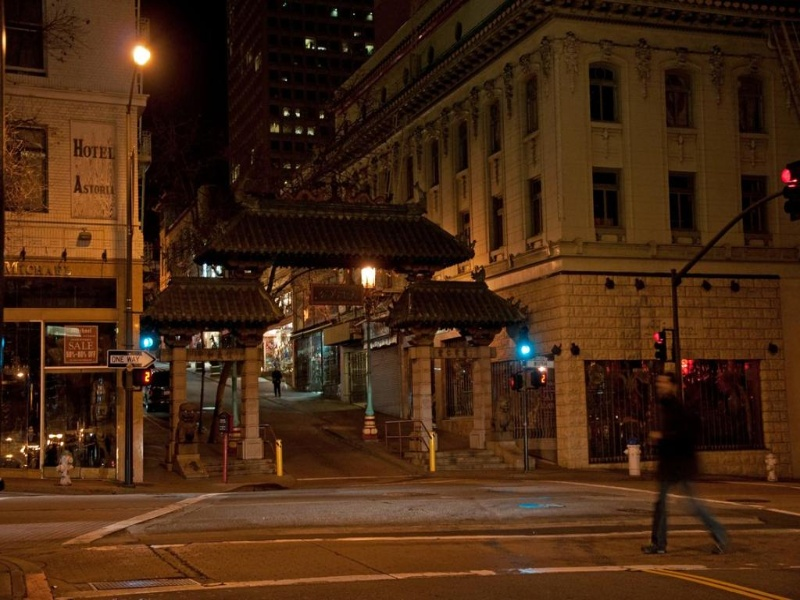right_direction: (108, 347, 156, 370)
